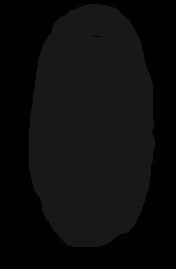fp: (13, 1, 164, 256)
